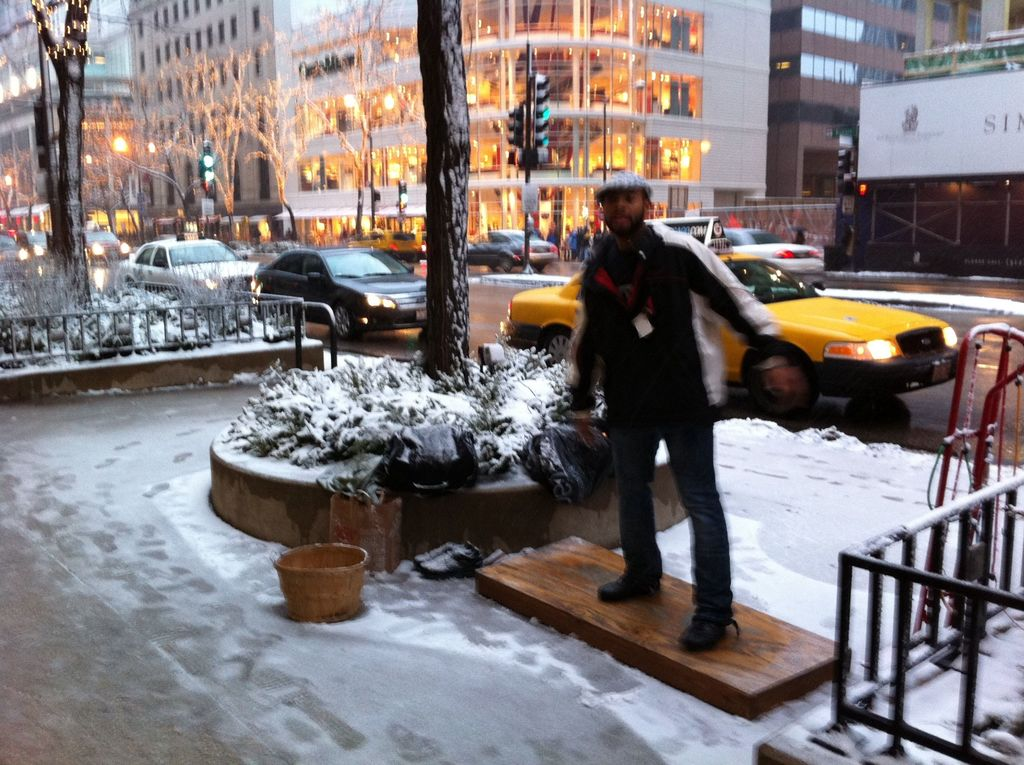Car: (502, 216, 963, 416), (227, 239, 436, 348), (113, 236, 258, 300), (723, 227, 824, 287), (346, 229, 428, 263), (488, 229, 558, 268), (83, 218, 129, 263), (467, 243, 524, 273), (17, 227, 50, 256), (0, 231, 25, 262), (259, 240, 304, 251), (146, 231, 177, 242)
